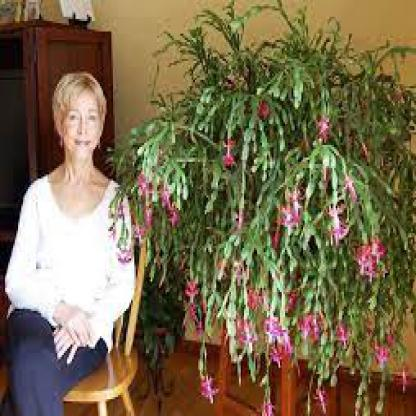Aglonema: (33, 73, 393, 386)
